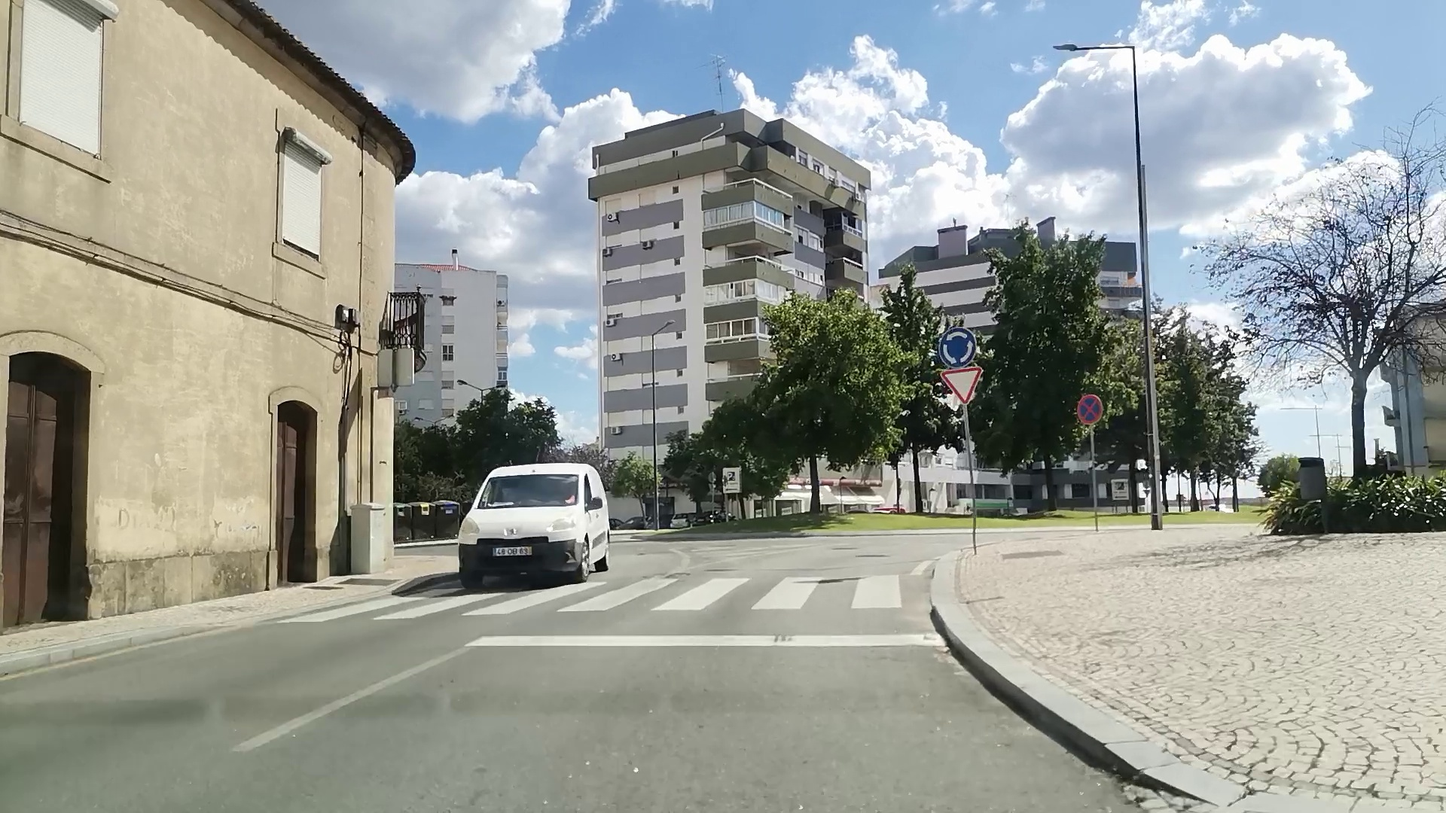Stairs: (271, 575, 906, 625)
